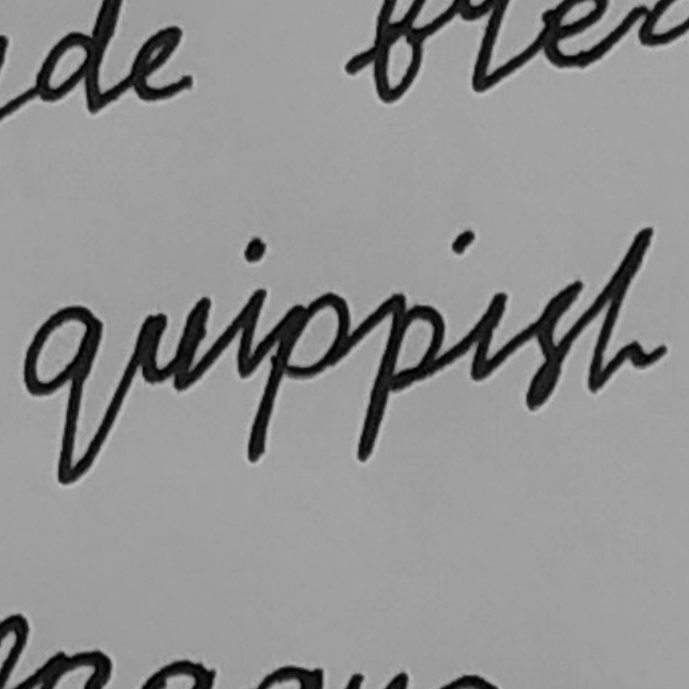h: (582, 219, 674, 402)
i: (455, 238, 516, 390), (225, 231, 276, 384)
p: (240, 286, 358, 465), (350, 286, 451, 474)
q: (17, 301, 111, 491)
s: (519, 274, 592, 418)
u: (127, 290, 216, 395)
